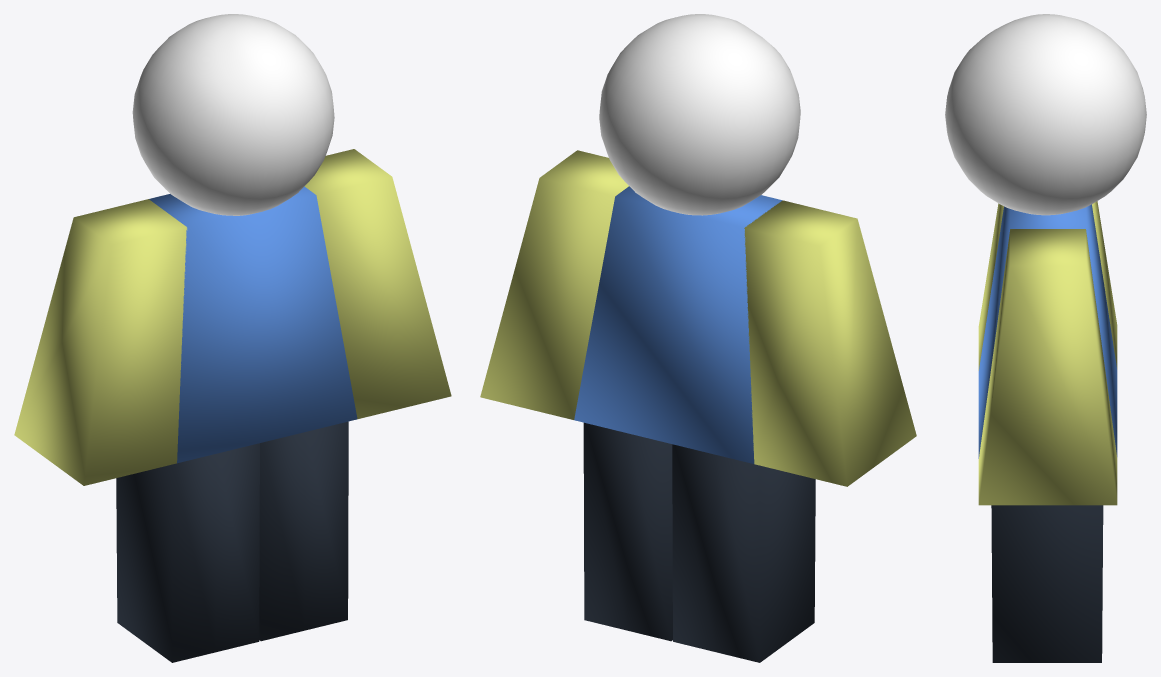
File: CreatopiaBody.glb
3 renders of one model, left to right at view 1: azimuth 30°, elevation 25°; view 2: azimuth 150°, elevation 25°; view 3: azimuth 270°, elevation 25°, orthographic.
Visible parts, largest first — view 1: Torso, LeftHand, Head, LeftLeg, RightHand, RightLeg; view 2: Torso, LeftHand, Head, LeftLeg, RightHand, RightLeg; view 3: Head, RightHand, RightLeg, Torso, LeftHand.
Boxes of the visible parts, left/top/right/bottom form: Torso: left=149, top=186, right=357, bottom=463; LeftHand: left=14, top=199, right=187, bottom=485; Head: left=132, top=14, right=334, bottom=215; LeftLeg: left=116, top=443, right=259, bottom=662; RightHand: left=304, top=149, right=451, bottom=418; RightLeg: left=259, top=421, right=348, bottom=641; Torso: left=574, top=186, right=782, bottom=463; LeftHand: left=744, top=200, right=916, bottom=486; Head: left=599, top=14, right=800, bottom=215; LeftLeg: left=672, top=444, right=815, bottom=662; RightHand: left=480, top=150, right=628, bottom=419; RightLeg: left=583, top=422, right=672, bottom=641; Head: left=945, top=14, right=1146, bottom=215; RightHand: left=978, top=229, right=1117, bottom=505; RightLeg: left=991, top=505, right=1103, bottom=662; Torso: left=978, top=204, right=1117, bottom=458; LeftHand: left=978, top=201, right=1117, bottom=370.
Bounding box in the file's own units: 3.71 × 5.76 × 1.77.
Materials: 6 (1 with a texture image).
